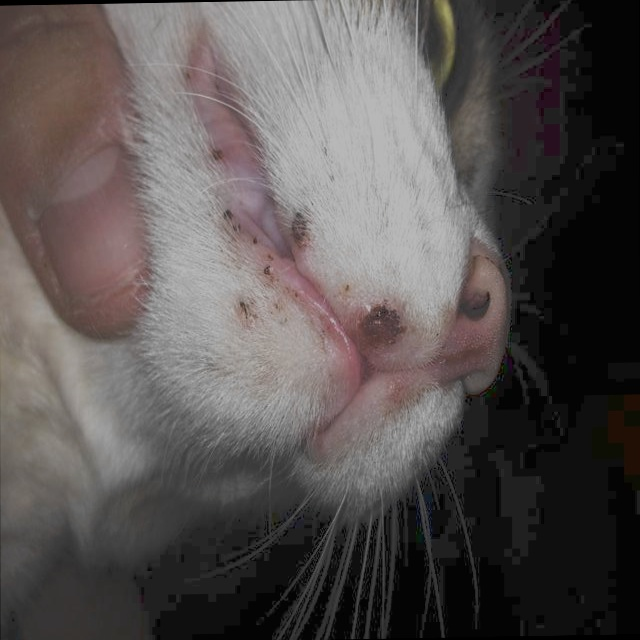acne: (291, 210, 312, 251), (229, 297, 256, 325)
